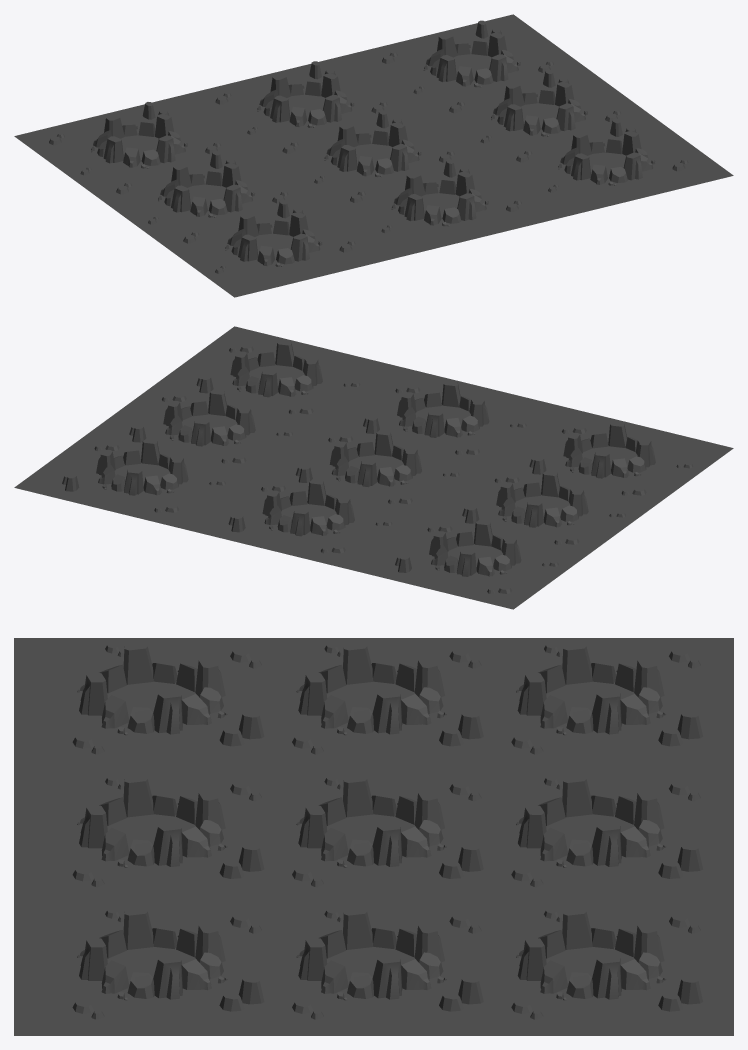
File: yes.glb
The picture shows the model from 3 angles, top to bottom: view 1: azimuth 30°, elevation 25°; view 2: azimuth 150°, elevation 25°; view 3: azimuth 270°, elevation 25°; orthographic projection. The views are drawn at different scales.
Visible parts, largest first — view 1: node_id112, node_id105, node_id63, node_id110, node_id114, node_id107, node_id103, node_id7, node_id56; view 2: node_id105, node_id112, node_id63, node_id107, node_id114, node_id7, node_id103, node_id110, node_id56; view 3: node_id63, node_id105, node_id112, node_id7, node_id56, node_id114, node_id107, node_id103, node_id110.
Part boxes in pixels (<box>): node_id112: <box>148,194,400,297</box>; node_id105: <box>481,112,733,216</box>; node_id63: <box>315,153,566,256</box>; node_id110: <box>81,145,314,234</box>; node_id114: <box>14,95,247,185</box>; node_id107: <box>347,14,580,103</box>; node_id103: <box>414,63,647,153</box>; node_id7: <box>181,55,413,144</box>; node_id56: <box>248,104,480,193</box>; node_id105: <box>148,326,400,429</box>; node_id112: <box>481,407,733,511</box>; node_id63: <box>315,367,566,470</box>; node_id107: <box>14,438,247,528</box>; node_id114: <box>347,520,580,609</box>; node_id7: <box>181,479,413,568</box>; node_id103: <box>81,389,314,478</box>; node_id110: <box>414,470,647,560</box>; node_id56: <box>248,430,480,519</box>; node_id63: <box>14,770,295,903</box>; node_id105: <box>14,903,295,1035</box>; node_id112: <box>14,638,295,770</box>; node_id7: <box>511,770,733,903</box>; node_id56: <box>292,770,514,903</box>; node_id114: <box>511,638,733,770</box>; node_id107: <box>511,903,733,1035</box>; node_id103: <box>292,903,514,1035</box>; node_id110: <box>292,638,514,770</box>.
Size of the model in its own units: 1.54 by 0.0721 by 1.17.
Materials: 3 (3 with a texture image).
